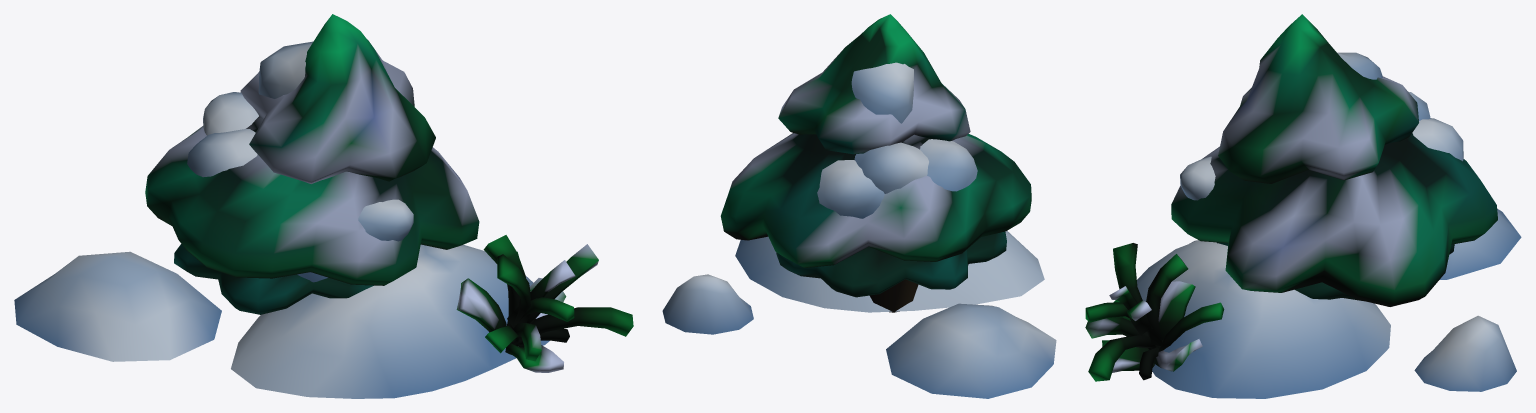
The model's file is Snowdrift_04.fbx.
3 renders of one model, left to right at view 1: azimuth 30°, elevation 25°; view 2: azimuth 150°, elevation 25°; view 3: azimuth 270°, elevation 25°, orthographic. The views are drawn at different scales.
Parts seen in each view (by area): view 1: Snowdrift_04; view 2: Snowdrift_04; view 3: Snowdrift_04.
Boxes of the visible parts, left/top/right/bottom form: Snowdrift_04: left=14, top=14, right=633, bottom=398; Snowdrift_04: left=662, top=14, right=1056, bottom=398; Snowdrift_04: left=1085, top=14, right=1521, bottom=398.
Size of the model in its own units: 4323 by 2981 by 3888.
